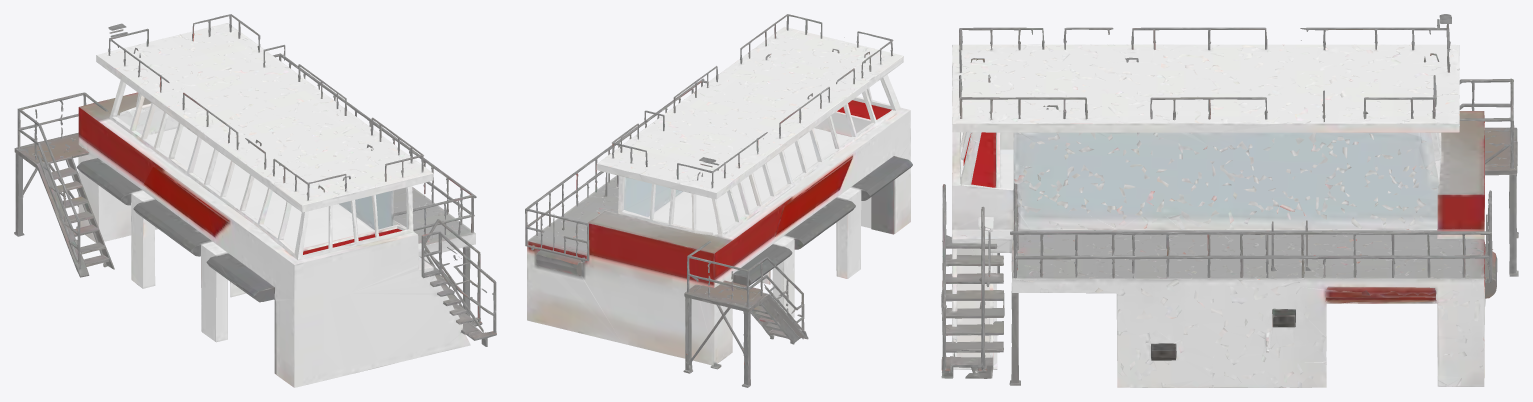
Rendered from pits-office.glb.
3 views of the same model, side by side, from view 1: azimuth 30°, elevation 25°; view 2: azimuth 150°, elevation 25°; view 3: azimuth 270°, elevation 25° (orthographic). The views are drawn at different scales.
Visible parts, largest first — view 1: geometry_0; view 2: geometry_0; view 3: geometry_0.
Boxes of the visible parts, x1,y1,x2,y2 form: geometry_0: (14,14,496,387); geometry_0: (525,14,912,387); geometry_0: (941,14,1518,387).
Size of the model in its own units: 0.6482 by 0.4909 by 0.9852.
1 material, 1 textured.
